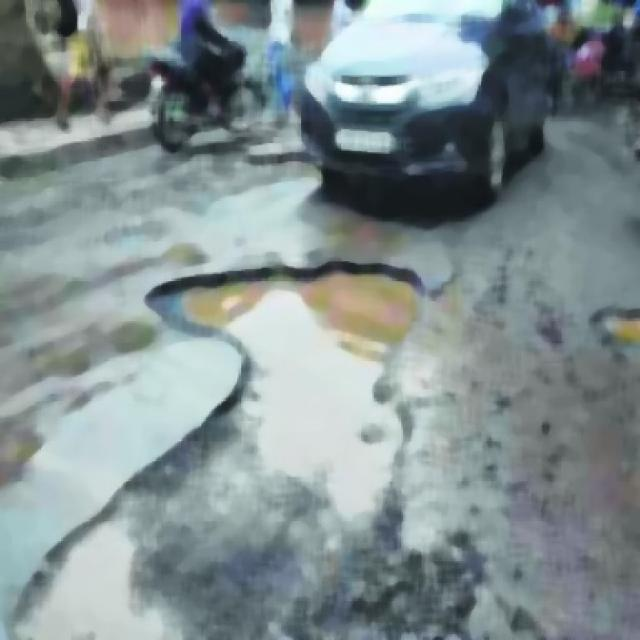Pothole: (162, 222, 408, 546)
